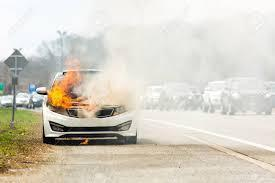fire: (45, 58, 80, 108), (75, 131, 90, 149)
